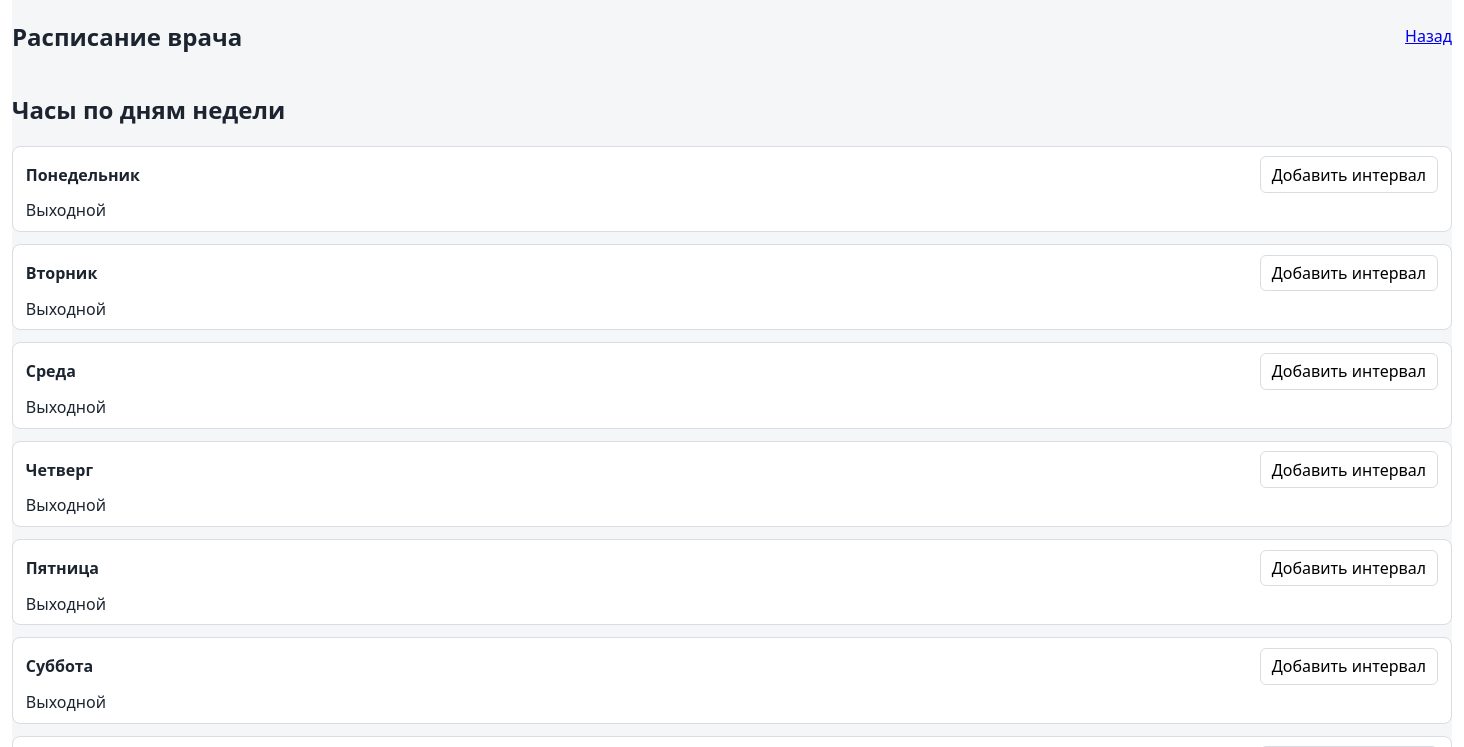
Test: ScheduleEditor (AC-XKH348.4) › adds and removes split-shift intervals on one day
Click the button "Добавить интервал" in the row of "Понедельник".
click(1349, 175)  # box [1260, 156, 1438, 193]
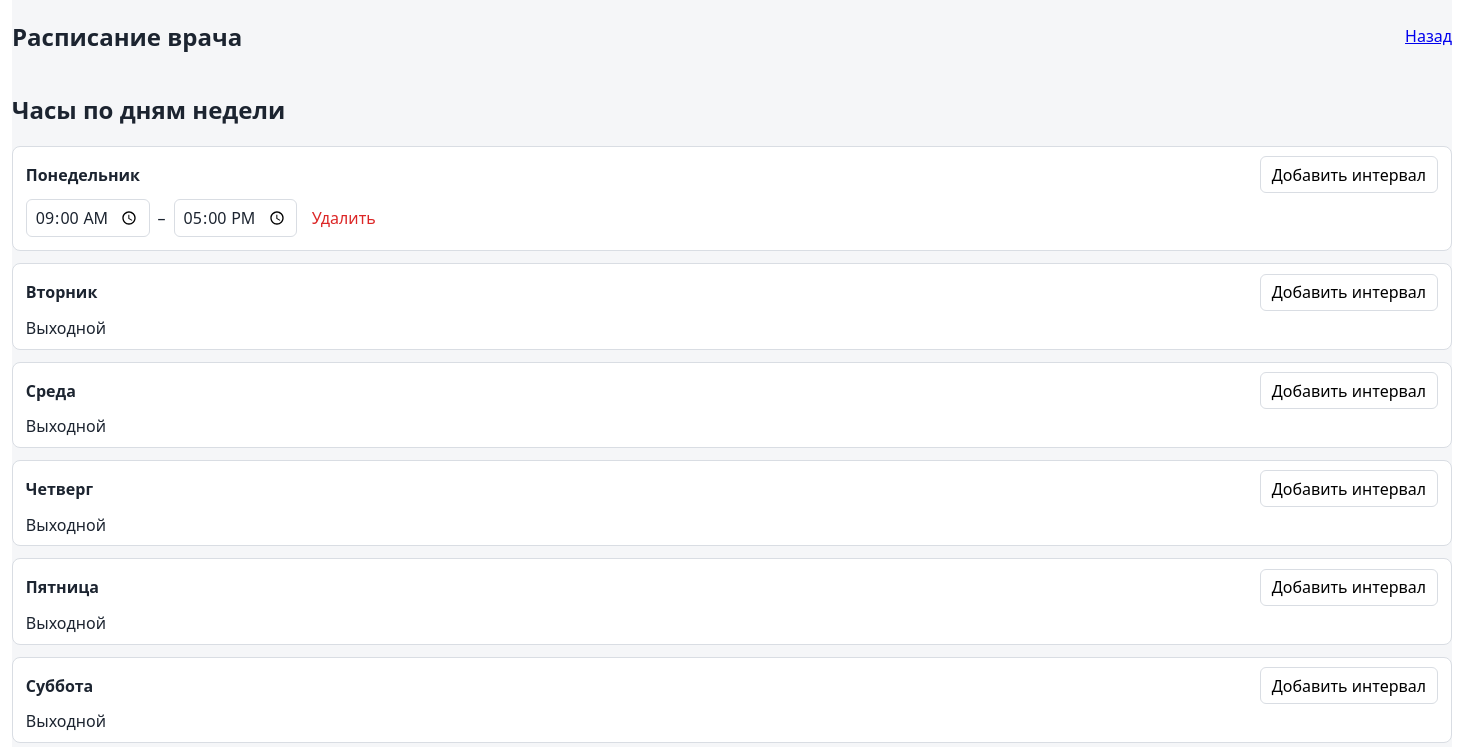
Result: the time field named "Понедельник Начало" is shown at [26, 199, 150, 237]
Click the button "Добавить интервал" in the row of "Понедельник".
click(1349, 175)  # box [1260, 156, 1438, 193]
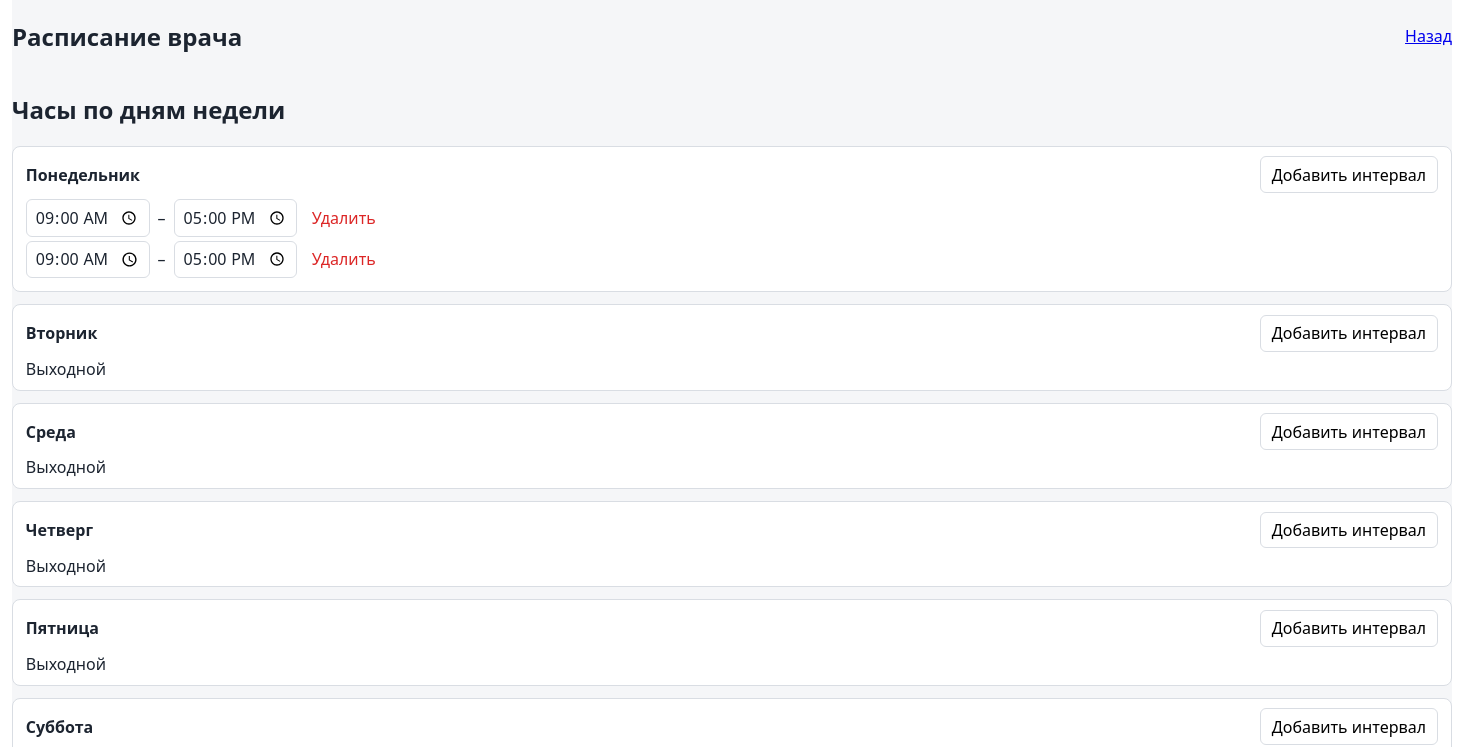
Result: the number of time fields named "Понедельник Начало" is 2 at [26, 199, 150, 237]; [26, 241, 150, 278]
Remove one → back to a single interval.
Click the 1st button "Удалить".
click(344, 218)  # box [305, 204, 382, 232]
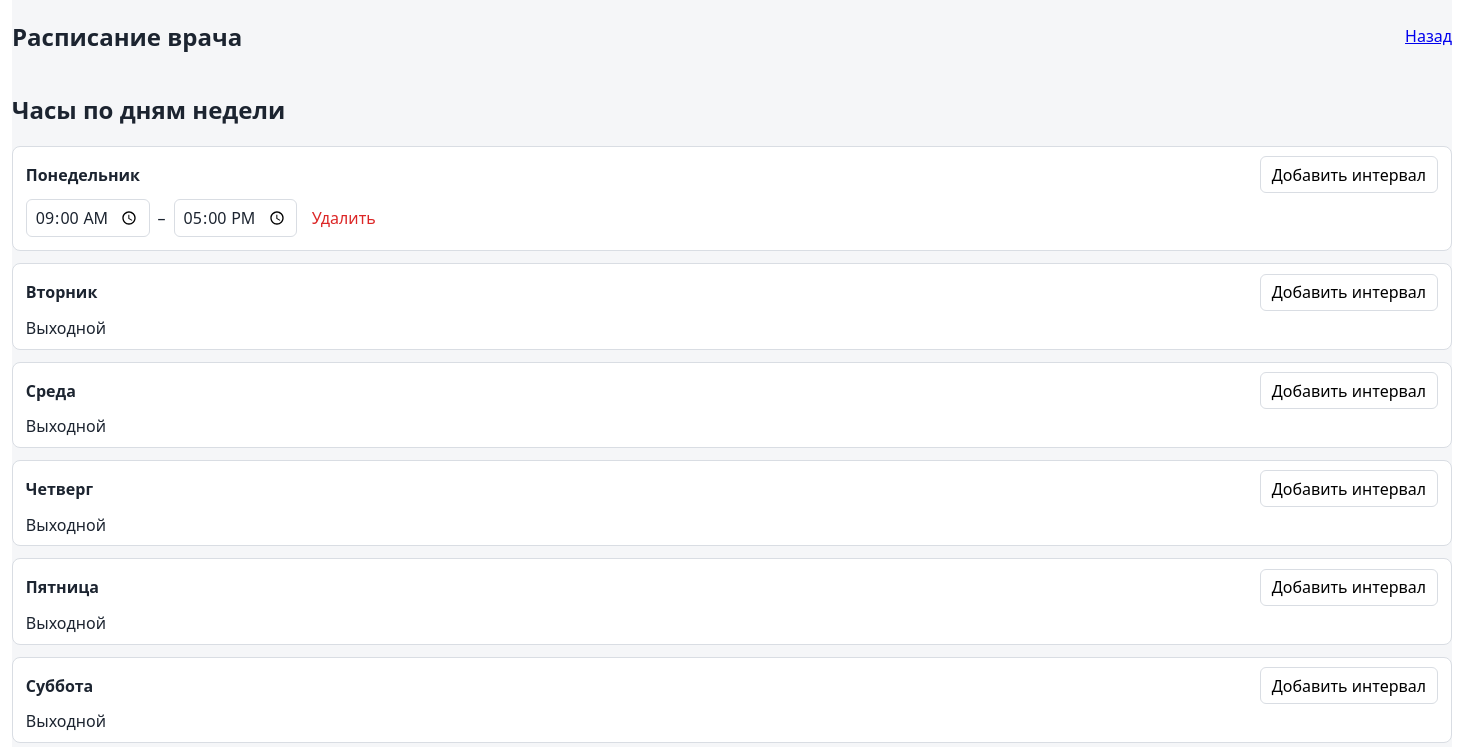
Result: the number of time fields named "Понедельник Начало" is 1 at [26, 199, 150, 237]
